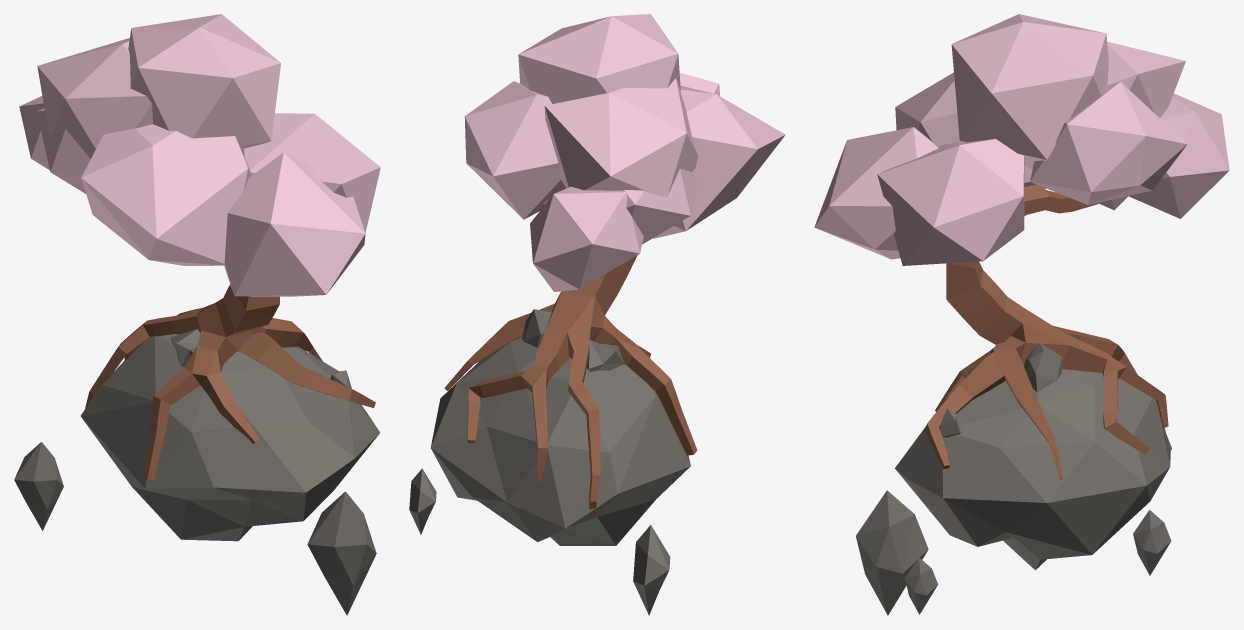
3 renders of one model, left to right at view 1: azimuth 30°, elevation 25°; view 2: azimuth 150°, elevation 25°; view 3: azimuth 270°, elevation 25°, orthographic.
Visible parts, largest first — view 1: Icosphere.008, Icosphere.005, Icosphere.001, Icosphere.003, Cube, Icosphere, Icosphere.002, Icosphere.011, Icosphere.012, Icosphere.006, Icosphere.007, Icosphere.015; view 2: Icosphere.008, Cube, Icosphere, Icosphere.001, Icosphere.004, Icosphere.007, Icosphere.005, Icosphere.006, Icosphere.012, Icosphere.013, Icosphere.015, Icosphere.009 (+1 smaller); view 3: Icosphere.008, Icosphere.001, Cube, Icosphere.002, Icosphere.004, Icosphere.003, Icosphere.007, Icosphere.011, Icosphere, Icosphere.005, Icosphere.013, Icosphere.009 (+1 smaller).
Part boxes in pixels (box(x1,y1,x2,y2)): Icosphere.008: box(80, 334, 380, 541); Icosphere.005: box(81, 124, 252, 265); Icosphere.001: box(128, 14, 280, 149); Icosphere.003: box(224, 152, 365, 296); Cube: box(85, 284, 375, 480); Icosphere: box(37, 38, 152, 158); Icosphere.002: box(242, 113, 380, 233); Icosphere.011: box(307, 491, 376, 615); Icosphere.012: box(14, 442, 63, 530); Icosphere.006: box(36, 108, 90, 193); Icosphere.007: box(19, 96, 49, 169); Icosphere.015: box(170, 329, 200, 366); Icosphere.008: box(430, 337, 690, 545); Cube: box(444, 199, 697, 515); Icosphere: box(544, 78, 698, 196); Icosphere.001: box(518, 14, 680, 103); Icosphere.004: box(464, 81, 564, 219); Icosphere.007: box(530, 186, 643, 291); Icosphere.005: box(653, 85, 785, 238); Icosphere.006: box(563, 168, 697, 244); Icosphere.012: box(633, 525, 670, 615); Icosphere.013: box(409, 468, 436, 534); Icosphere.015: box(586, 340, 624, 371); Icosphere.009: box(521, 309, 551, 347); Icosphere.008: box(895, 369, 1170, 570); Icosphere.001: box(951, 14, 1108, 168); Cube: box(925, 184, 1168, 479); Icosphere.002: box(877, 139, 1024, 265); Icosphere.004: box(1030, 81, 1187, 205); Icosphere.003: box(814, 127, 938, 259); Icosphere.007: box(1128, 93, 1229, 218); Icosphere.011: box(856, 490, 928, 615); Icosphere: box(1107, 41, 1185, 117); Icosphere.005: box(895, 72, 1045, 188); Icosphere.013: box(1133, 510, 1171, 575); Icosphere.009: box(1024, 343, 1061, 392).
Size of the model in its own units: 4.96 by 9.17 by 6.21.
